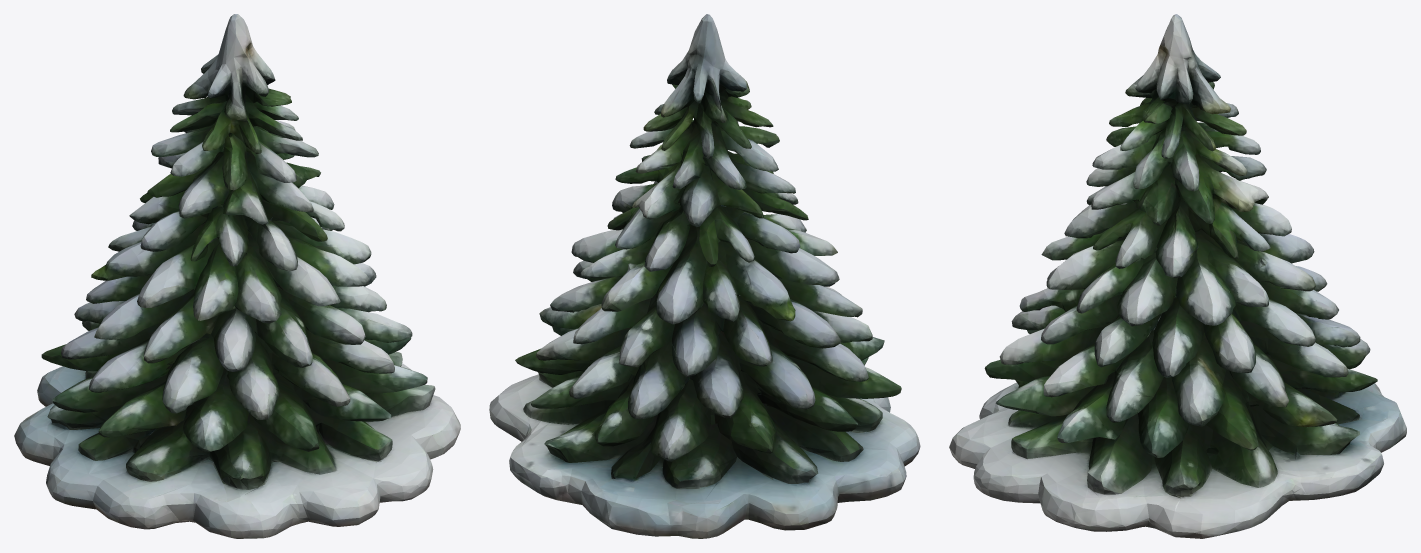
The picture shows the model from 3 angles, left to right: view 1: azimuth 30°, elevation 25°; view 2: azimuth 150°, elevation 25°; view 3: azimuth 270°, elevation 25°; orthographic projection.
Parts seen in each view (by area): view 1: world; view 2: world; view 3: world.
Part boxes in pixels (left/top/right/bottom): world: left=14, top=14, right=460, bottom=538; world: left=489, top=14, right=920, bottom=538; world: left=949, top=14, right=1406, bottom=538.
Size of the model in its own units: 0.9137 by 0.999 by 0.9375.
Materials: 1 (1 with a texture image).
